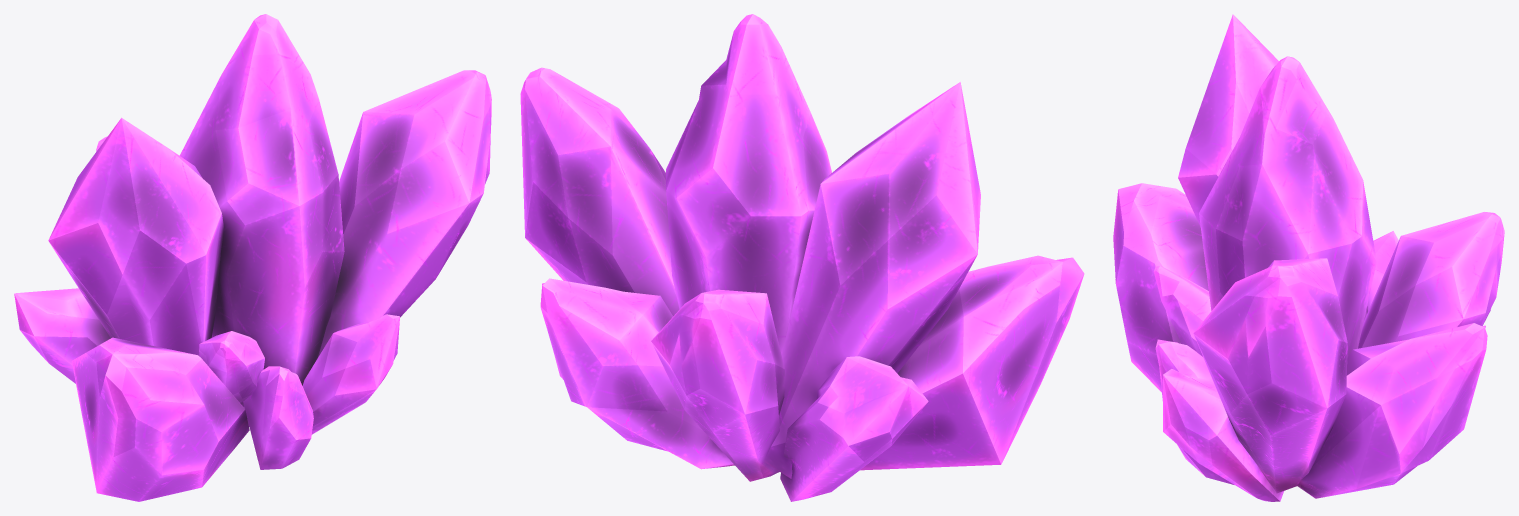
File: sibur.glb
The picture shows the model from 3 angles, left to right: view 1: azimuth 30°, elevation 25°; view 2: azimuth 150°, elevation 25°; view 3: azimuth 270°, elevation 25°; orthographic projection. The views are drawn at different scales.
Parts seen in each view (by area): view 1: Cylinder.004; view 2: Cylinder.004; view 3: Cylinder.004.
Part boxes in pixels (bbox=[...]): Cylinder.004: bbox=[14, 14, 491, 501]; Cylinder.004: bbox=[520, 14, 1084, 501]; Cylinder.004: bbox=[1113, 14, 1504, 501].
Size of the model in its own units: 2.77 by 2.46 by 2.
1 material, 1 textured.
